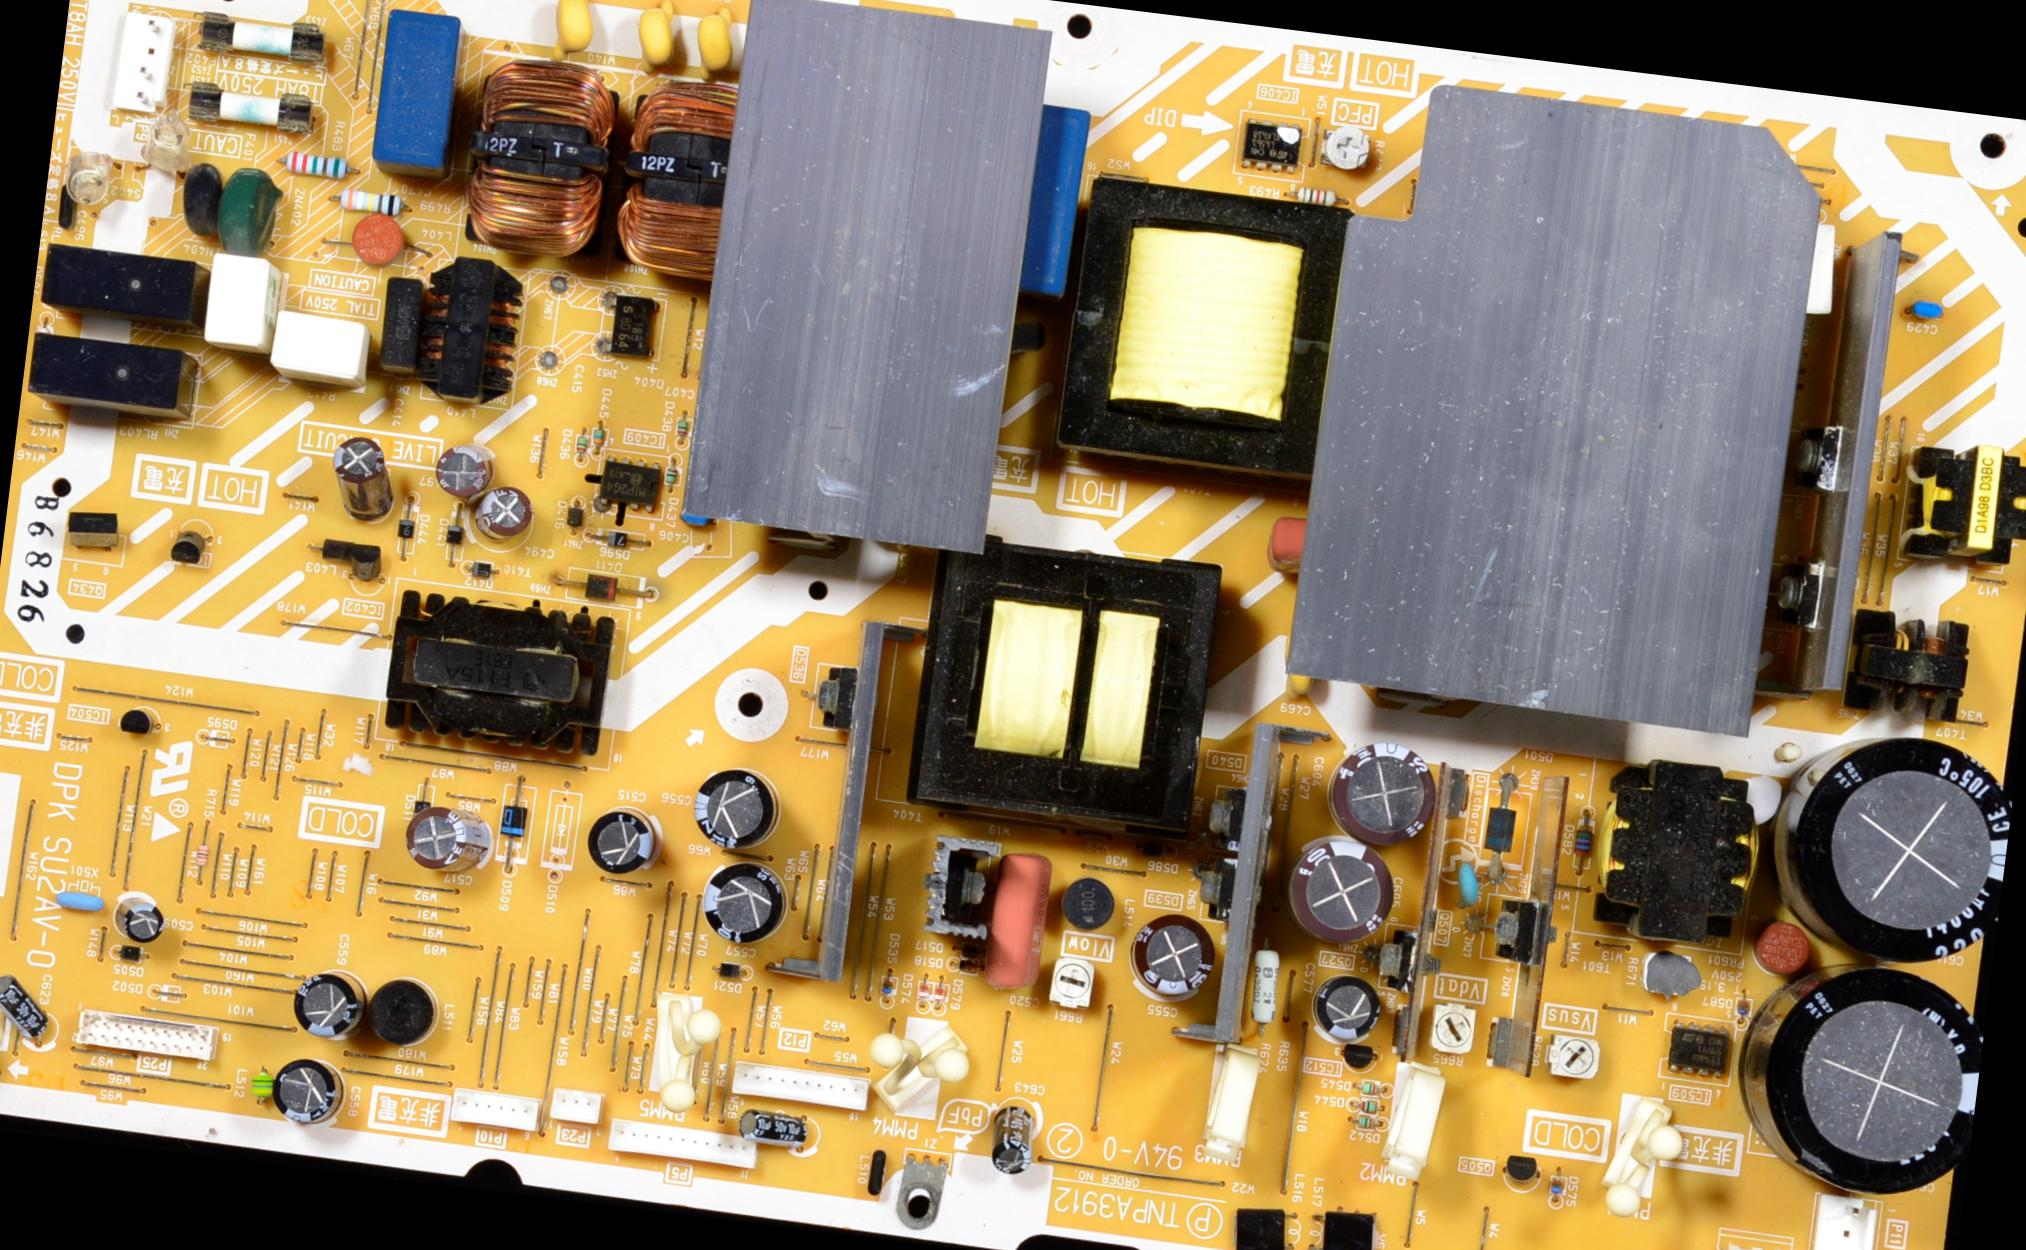Capacitor Jumper: (1768, 721, 2017, 970), (1755, 955, 1989, 1204), (1328, 741, 1439, 842), (1285, 840, 1394, 933), (682, 760, 780, 860), (1122, 907, 1220, 1002), (694, 858, 792, 948), (989, 852, 1050, 992), (581, 810, 652, 877), (1312, 983, 1386, 1039), (286, 978, 353, 1036), (472, 480, 534, 540), (636, 0, 686, 74), (270, 1068, 337, 1122), (402, 809, 459, 867), (1275, 629, 1324, 695), (430, 442, 490, 493), (696, 7, 737, 79), (549, 0, 595, 59), (118, 905, 162, 941), (1903, 292, 1943, 327), (674, 504, 714, 532)
Resistor Jumper: (1547, 1028, 1600, 1083), (1047, 956, 1094, 1018), (1247, 945, 1280, 1030), (1429, 1004, 1476, 1058), (336, 184, 408, 219), (1643, 952, 1692, 997), (282, 148, 348, 180), (1284, 180, 1340, 206)
